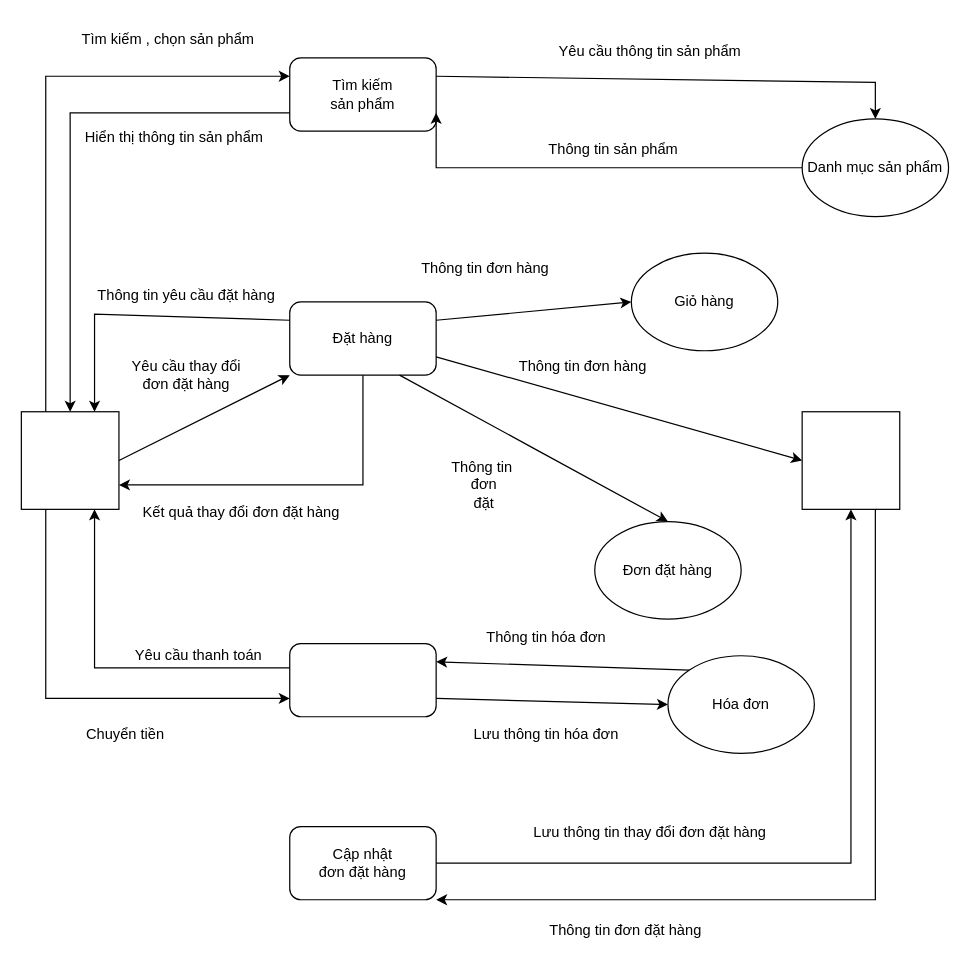
Image size: 970x969. Some labels were removed from this diagram. Here are the shapes that lost their labels. From the top down, the centre of each, then its label:
the point at 69,460: Khách hàng
the point at 850,460: Nhà quản trị
the point at 362,679: Thanh toán
